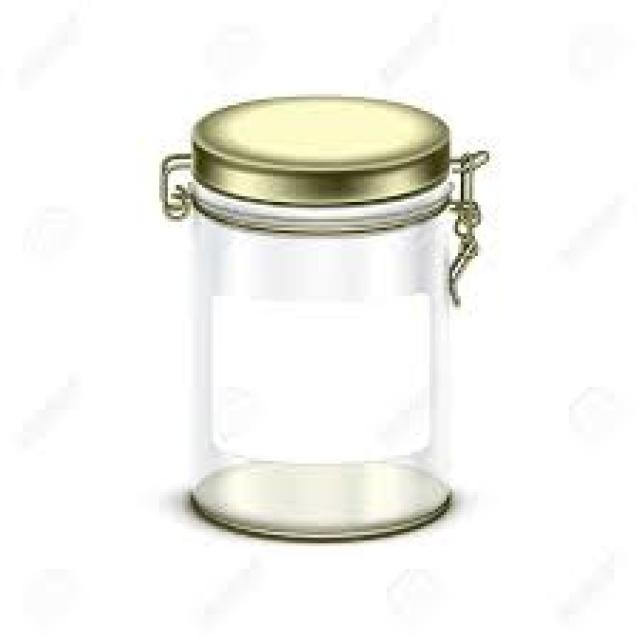glass: (188, 179, 449, 538)
metal: (188, 94, 444, 202)
